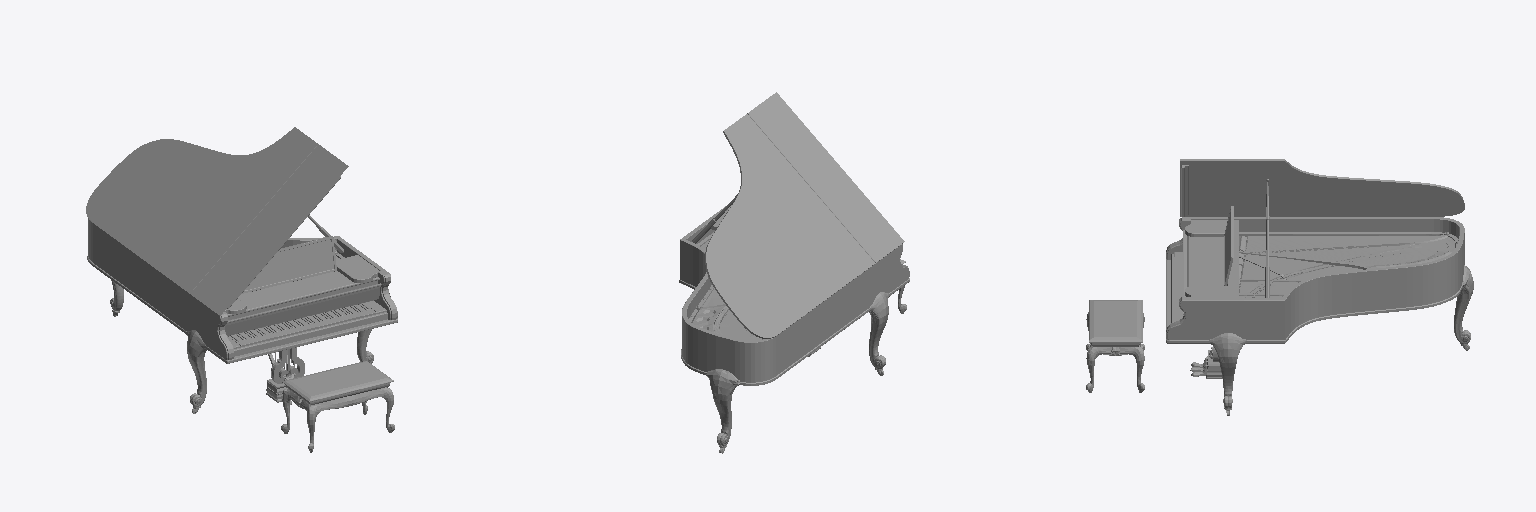
3 views of the same model, side by side, from view 1: azimuth 30°, elevation 25°; view 2: azimuth 150°, elevation 25°; view 3: azimuth 270°, elevation 25° (orthographic).
Parts seen in each view (by area): view 1: 0-_PIANO_BASE, 1-_GRAND_PIANO__STOOL; view 2: 0-_PIANO_BASE, 2-_PIANO_INTERIOR; view 3: 0-_PIANO_BASE, 2-_PIANO_INTERIOR, 1-_GRAND_PIANO__STOOL.
Part boxes in pixels (bbox=[...]): 0-_PIANO_BASE: bbox=[86, 127, 397, 413]; 1-_GRAND_PIANO__STOOL: bbox=[281, 361, 394, 452]; 0-_PIANO_BASE: bbox=[679, 92, 909, 453]; 2-_PIANO_INTERIOR: bbox=[689, 194, 762, 340]; 0-_PIANO_BASE: bbox=[1166, 159, 1473, 415]; 2-_PIANO_INTERIOR: bbox=[1239, 179, 1458, 297]; 1-_GRAND_PIANO__STOOL: bbox=[1086, 300, 1144, 392].
Bounding box in the file's own units: 172 × 208 × 312.